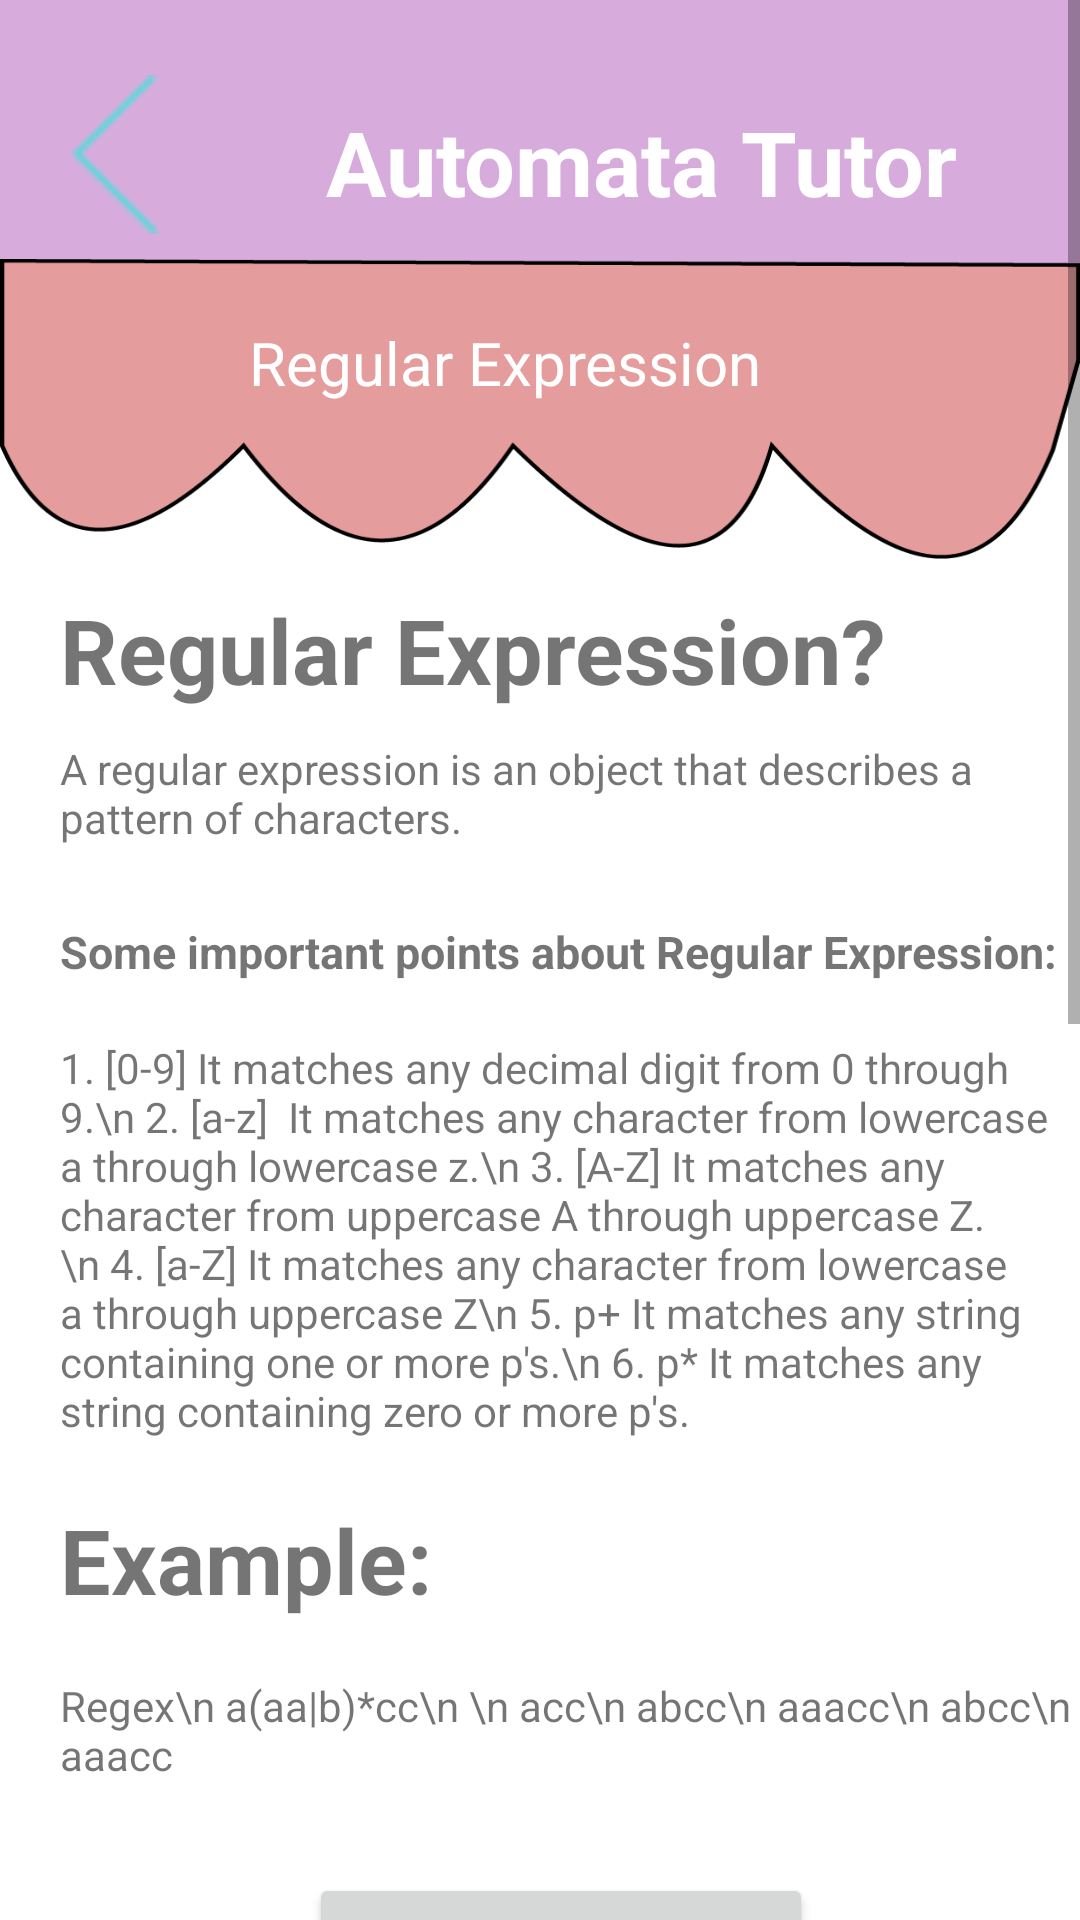

Icons on this 1080×1920 Android screen, each with the point to tap as (x=x, y=y):
backiconimg: (x=115, y=154)
